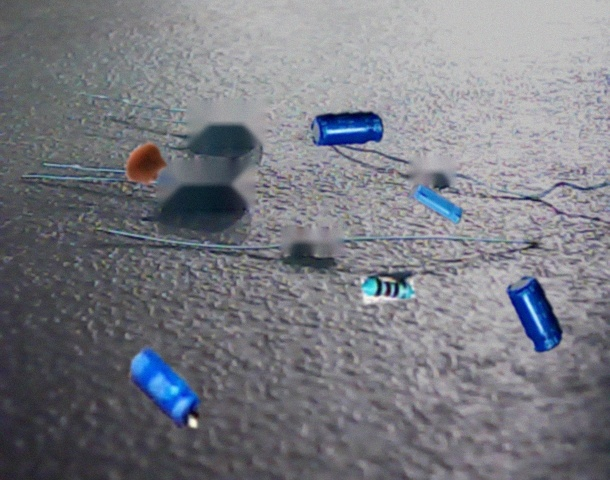capacitor: (130, 345, 201, 429), (506, 276, 563, 353), (311, 111, 384, 147), (408, 184, 463, 224), (126, 142, 167, 185)
resistor: (360, 271, 415, 304)
